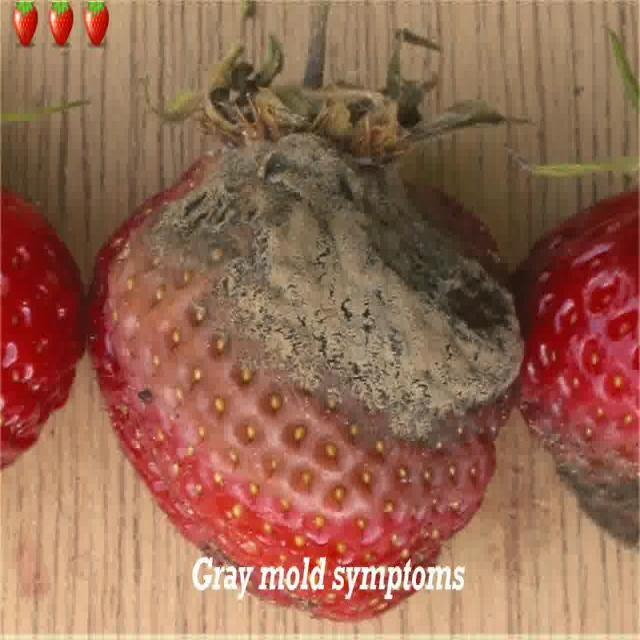Moho gris: (83, 133, 526, 624)
